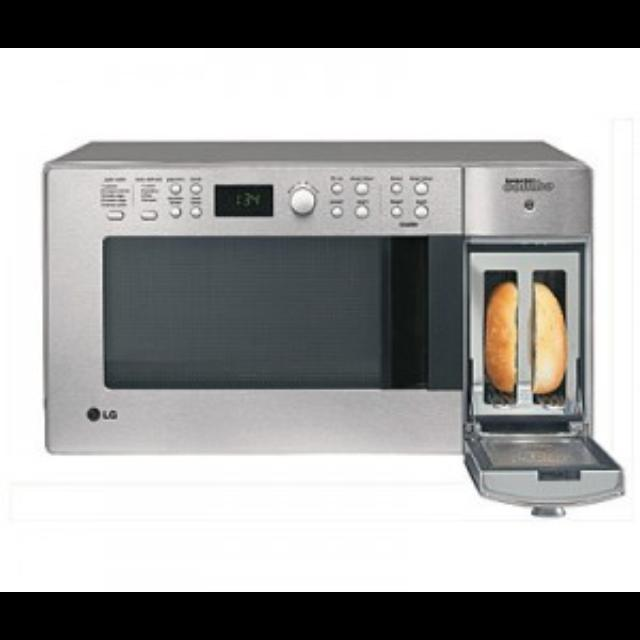Microwave: (41, 137, 627, 520)
